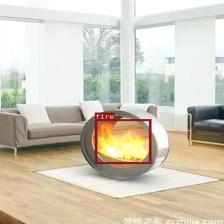fire: (94, 119, 150, 164)
